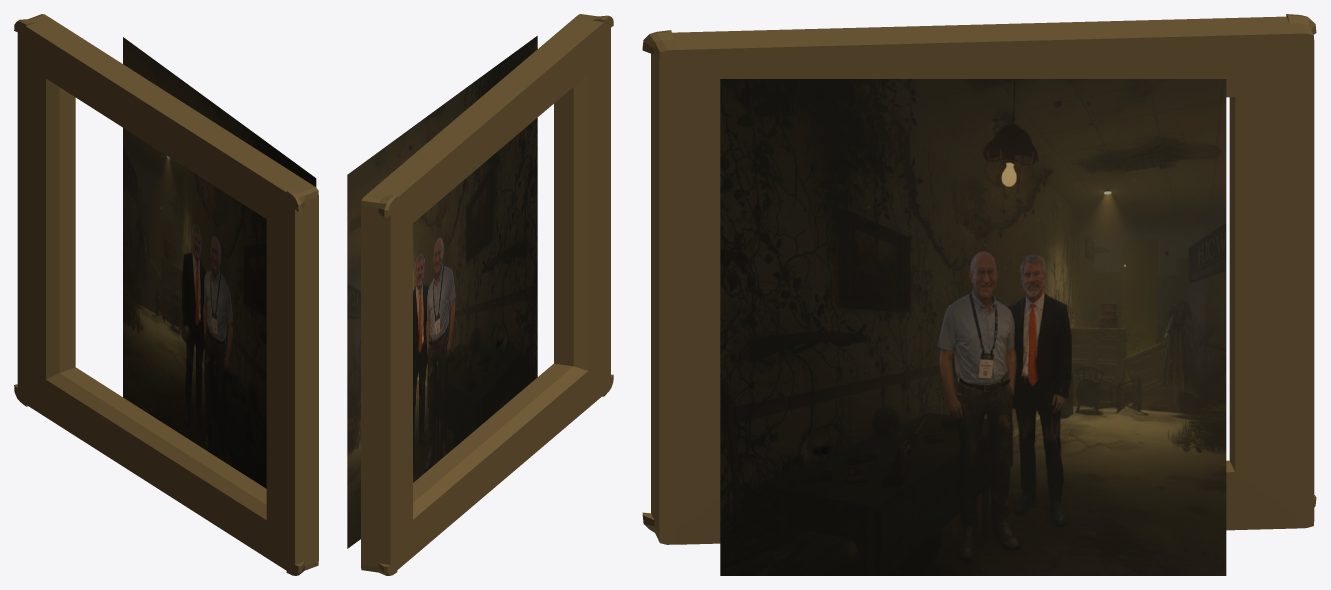
Rendered from bensasson.glb.
3 views of the same model, side by side, from view 1: azimuth 30°, elevation 25°; view 2: azimuth 150°, elevation 25°; view 3: azimuth 270°, elevation 25° (orthographic). The views are drawn at different scales.
Visible parts, largest first — view 1: Plane.001, ben sasson; view 2: Plane.001, ben sasson; view 3: ben sasson, Plane.001.
Part boxes in pixels (x1,y1,x2,y2): Plane.001: (14, 14, 318, 575); ben sasson: (123, 37, 316, 488); Plane.001: (361, 14, 613, 575); ben sasson: (347, 36, 537, 548); ben sasson: (720, 79, 1226, 575); Plane.001: (642, 14, 1316, 544).
Size of the model in its own units: 0.0472 by 0.237 by 0.2809.
2 materials, 1 textured.
